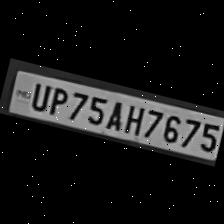5: (82, 91, 110, 127), (193, 118, 221, 153)
6: (156, 110, 183, 145)
7: (62, 88, 89, 122), (139, 104, 164, 139), (176, 114, 201, 148)
A: (102, 96, 128, 132)
H: (120, 100, 147, 136)
P: (43, 83, 71, 118)
U: (26, 78, 52, 112)
